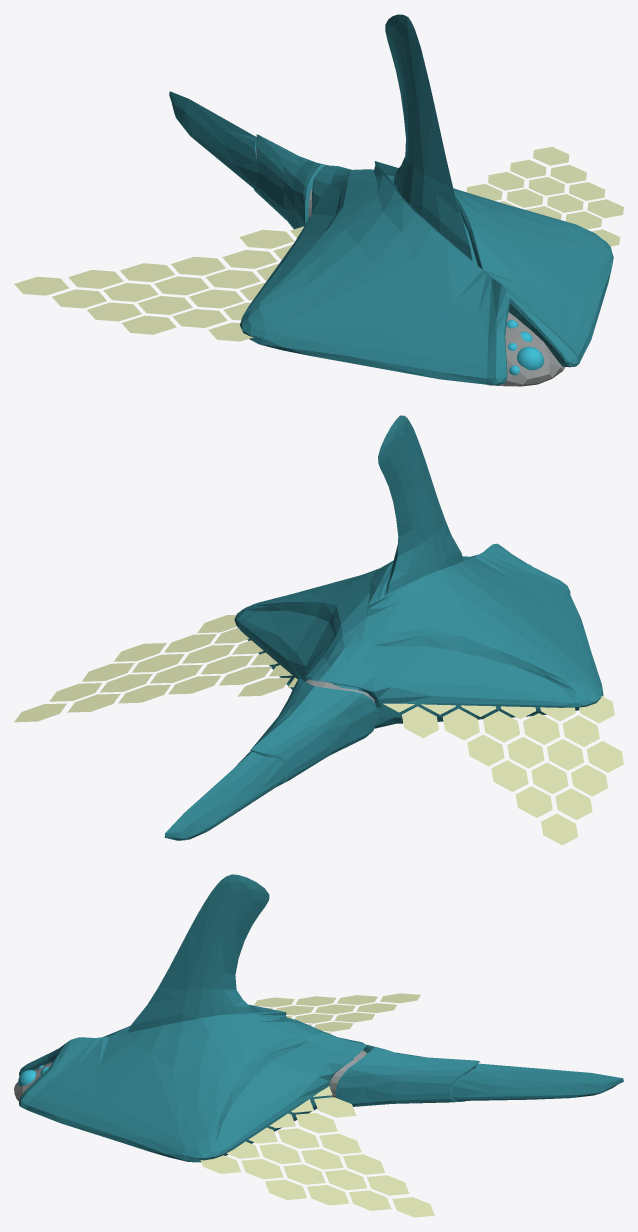
The model's file is Ray export.fbx.
3 views of the same model, one above another, from view 1: azimuth 30°, elevation 25°; view 2: azimuth 150°, elevation 25°; view 3: azimuth 270°, elevation 25° (orthographic). The views are drawn at different scales.
Visible parts, largest first — view 1: Head ray, 0_right wing open, 0_Left wing open, middle tail, tailtip; view 2: Head ray, 0_right wing open, 0_Left wing open, middle tail, tailtip; view 3: Head ray, 0_Left wing open, middle tail, tailtip, 0_right wing open.
Part boxes in pixels (x1,y1,x2,y2): Head ray: (240, 14, 613, 386); 0_right wing open: (14, 226, 304, 341); 0_Left wing open: (466, 147, 623, 246); middle tail: (254, 134, 326, 229); tailtip: (169, 91, 257, 188); Head ray: (234, 415, 603, 728); 0_right wing open: (383, 696, 623, 845); 0_Left wing open: (14, 614, 297, 722); middle tail: (250, 678, 377, 786); tailtip: (164, 751, 286, 840); Head ray: (14, 874, 366, 1162); 0_Left wing open: (200, 1086, 434, 1217); middle tail: (329, 1044, 479, 1106); tailtip: (452, 1063, 623, 1100); 0_right wing open: (254, 993, 420, 1034).
Bounding box in the file's own units: 4.3 × 2.11 × 4.99.
